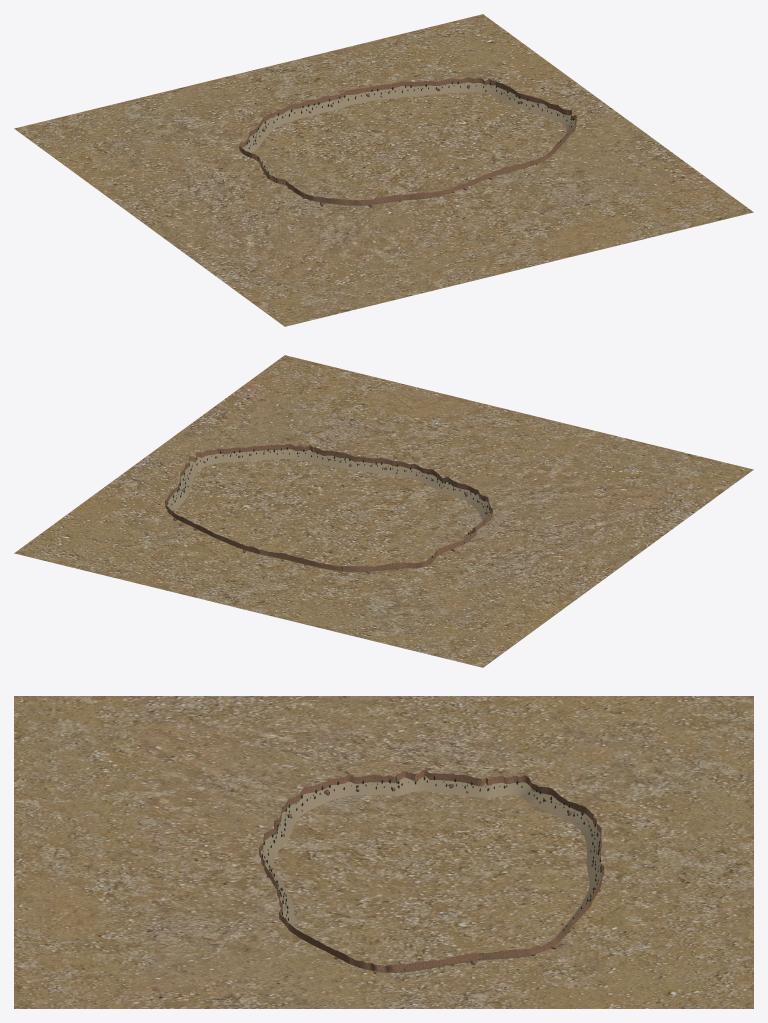
3 renders of one model, top to bottom at view 1: azimuth 30°, elevation 25°; view 2: azimuth 150°, elevation 25°; view 3: azimuth 270°, elevation 25°, orthographic. The views are drawn at different scales.
Parts seen in each view (by area): view 1: Plane, Wall_08, Wall_09, Wall_07, Wall_00, Wall_06, Wall_04, Wall_03; view 2: Plane, Wall_01, Wall_02, Wall_03, Wall_00, Wall_04, Wall_06; view 3: Plane, Wall_05, Wall_04, Wall_06, Wall_00, Wall_03, Wall_07, Wall_09, Wall_02, Wall_01.
Boxes of the visible parts, x1,y1,x2,y2 form: Plane: [14, 14, 753, 326]; Wall_08: [347, 80, 437, 104]; Wall_09: [435, 77, 520, 106]; Wall_07: [271, 90, 352, 125]; Wall_00: [513, 93, 576, 134]; Wall_06: [239, 112, 279, 157]; Wall_04: [289, 184, 377, 205]; Wall_03: [376, 184, 462, 204]; Plane: [14, 355, 753, 667]; Wall_01: [217, 443, 312, 462]; Wall_02: [309, 447, 392, 474]; Wall_03: [389, 461, 464, 497]; Wall_00: [178, 448, 220, 495]; Wall_04: [458, 484, 492, 529]; Wall_06: [342, 553, 435, 572]; Plane: [14, 696, 753, 1008]; Wall_05: [384, 769, 497, 797]; Wall_04: [281, 775, 384, 824]; Wall_06: [493, 775, 593, 830]; Wall_00: [350, 952, 478, 973]; Wall_03: [259, 811, 294, 874]; Wall_07: [581, 815, 604, 881]; Wall_09: [475, 921, 571, 960]; Wall_02: [264, 862, 294, 924]; Wall_01: [279, 911, 349, 963].
Bounding box in the file's own units: 1400 × 34.17 × 1400.
